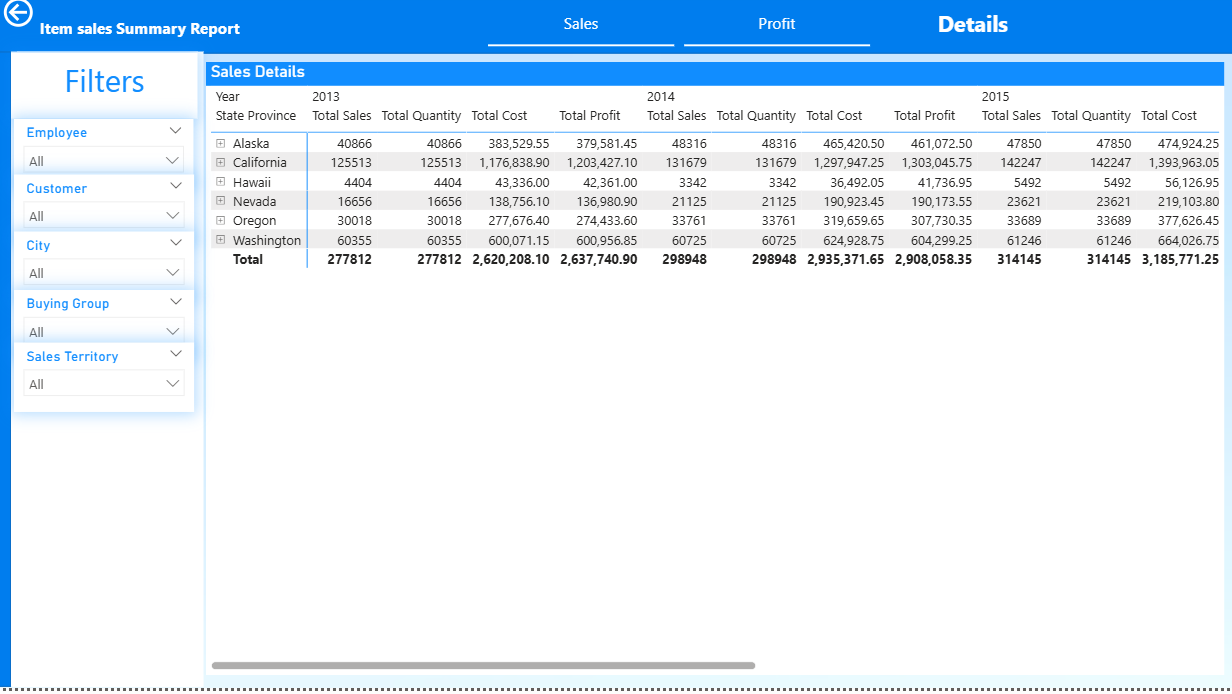

This screenshot's page, from the dashboard's own definition file:
{"tool":"powerbi","page":{"name":"Details","canvas":[1280,720],"ordinal":2},"visuals":[{"type":"shape","box":[0,1,1280,61.3],"z":0},{"type":"shape","box":[0,61.3,12.6,658.5],"z":1000},{"type":"shape","box":[12.6,61.3,193.6,658.5],"z":2000},{"type":"shape","box":[18.5,61.3,193.6,658.5],"z":3000},{"type":"textbox","box":[37,19.5,217.9,40.9],"z":4000},{"type":"textbox","box":[12.6,62.2,193.6,68.1],"z":9000},{"type":"pivotTable","title":"Sales Details","fields":{"Values":["Sum(FactSale.Total Dry Items)","Sum(FactSale.Quantity)","Sum(FactSale.Cost)","Sum(FactSale.Profit)"],"Rows":["DimCity.State Province","DimCity.City"],"Columns":["DimDate.Date.Variation.Date Hierarchy.Year","DimDate.Date.Variation.Date Hierarchy.Quarter","DimDate.Date.Variation.Date Hierarchy.Month","DimDate.Date.Variation.Date Hierarchy.Day"]},"box":[215,72,1055.3,635.1],"z":12000},{"type":"slicer","fields":{"Values":["DimEmployee.Employee"]},"box":[15.6,130.1,186.3,71.8],"z":13000},{"type":"slicer","fields":{"Values":["DimCustomer.Customer"]},"box":[15.6,188.7,186.7,72],"z":14000},{"type":"slicer","fields":{"Values":["DimCity.City"]},"box":[15.6,247.1,186.7,72],"z":15000},{"type":"slicer","fields":{"Values":["DimCustomer.Buying Group"]},"box":[15.6,307.4,186.7,72],"z":16000},{"type":"slicer","fields":{"Values":["DimCity.Sales Territory"]},"box":[15.6,362.8,186.7,72],"z":17000},{"type":"actionButton","box":[0,0,100,40],"z":17001},{"type":"pageNavigator","box":[506.7,6.8,600.1,49.6],"z":17002}]}

Visuals, with their boxes on the page's 1280x720 design canvas (x1, y1, x2, y2). These are canvas units, not pixel positions in the 1232x694 screenshot, which may show the page scaled, cropped or inside an application window:
shape: bbox=(0, 1, 1280, 62)
shape: bbox=(0, 61, 13, 720)
shape: bbox=(13, 61, 206, 720)
shape: bbox=(18, 61, 212, 720)
textbox: bbox=(37, 20, 255, 60)
textbox: bbox=(13, 62, 206, 130)
"Sales Details" pivotTable: bbox=(215, 72, 1270, 707)
slicer - DimEmployee.Employee: bbox=(16, 130, 202, 202)
slicer - DimCustomer.Customer: bbox=(16, 189, 202, 261)
slicer - DimCity.City: bbox=(16, 247, 202, 319)
slicer - DimCustomer.Buying Group: bbox=(16, 307, 202, 379)
slicer - DimCity.Sales Territory: bbox=(16, 363, 202, 435)
actionButton: bbox=(0, 0, 100, 40)
pageNavigator: bbox=(507, 7, 1107, 56)
